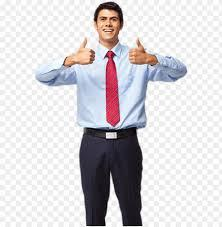Persons: (84, 0, 131, 47)
